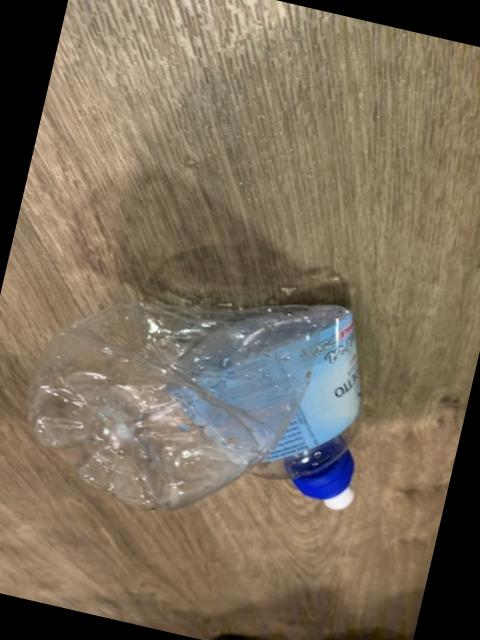plastic: (30, 304, 361, 512)
